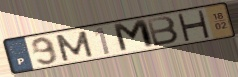1: (93, 26, 111, 56)
9: (30, 36, 59, 66)
B: (144, 15, 181, 48)
H: (175, 9, 211, 42)
M: (111, 17, 158, 54), (53, 29, 96, 63)
